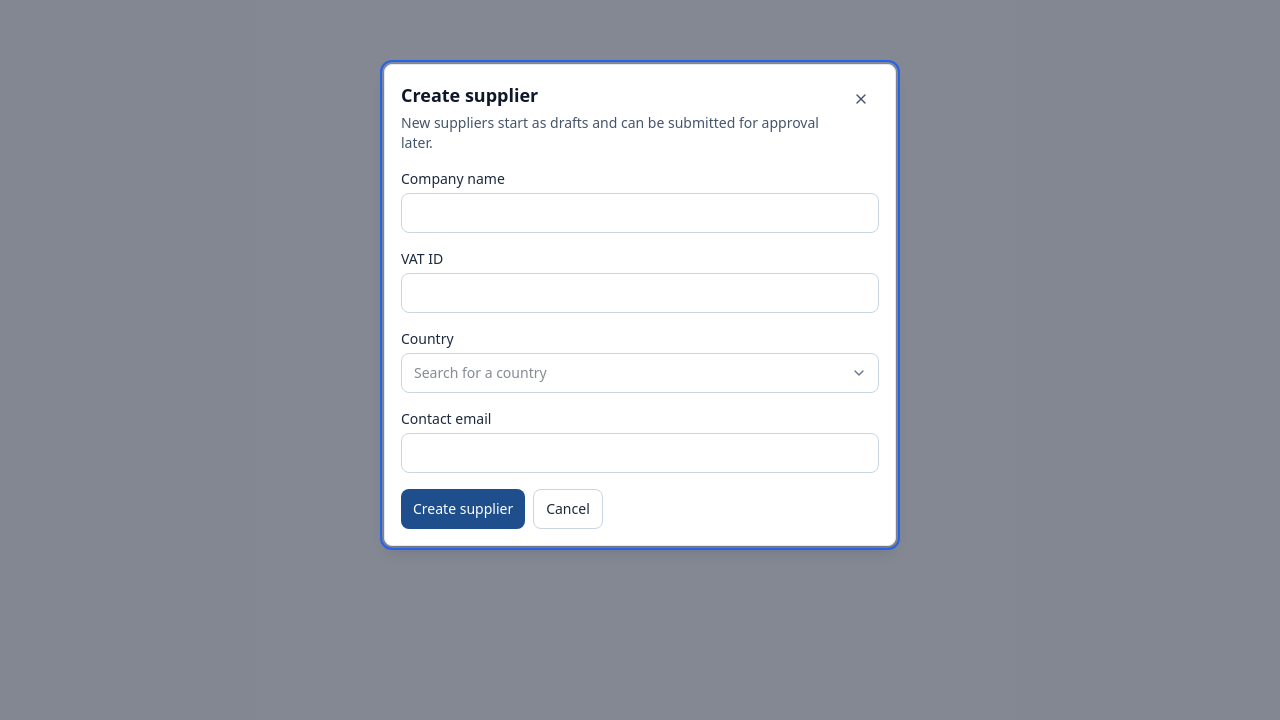
Test: CreateSupplierDialog › shows a duplicate VAT error and keeps the entered values
The image size is (1280, 720).
In the field labelled "Company name": (640, 213) [401,193,879,233], type "Duplicate GmbH"
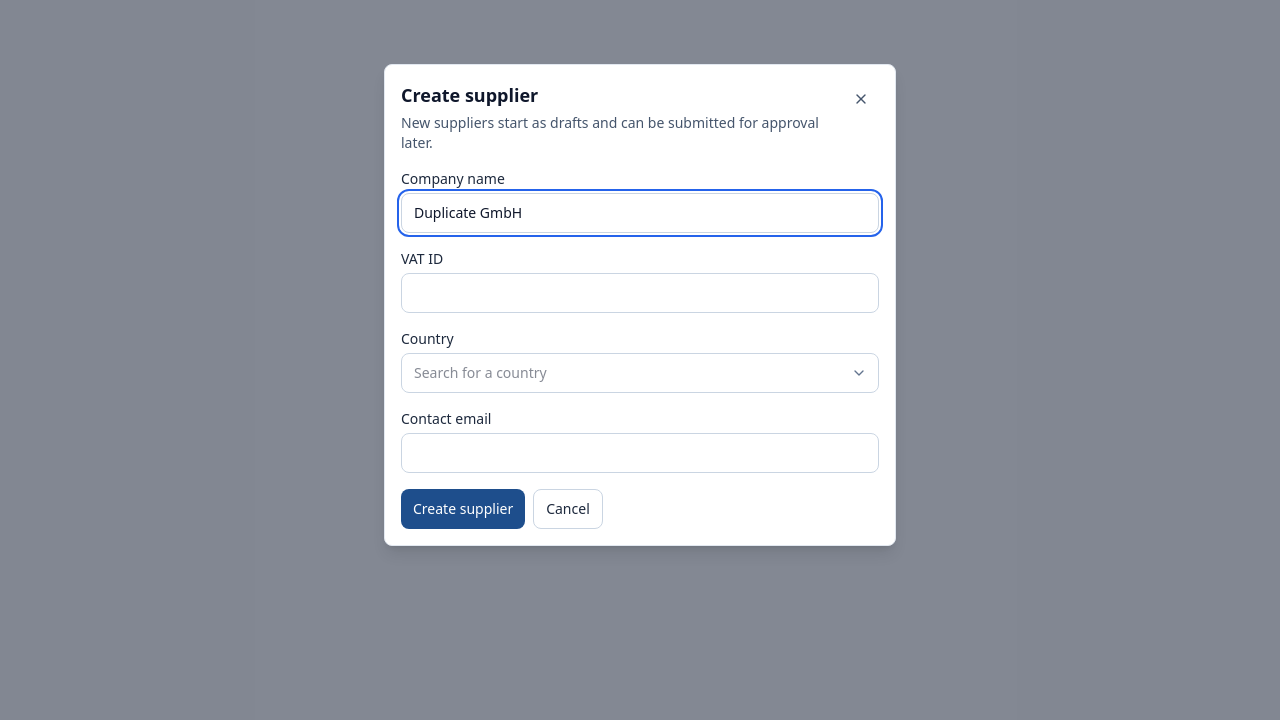
In the field labelled "VAT ID": (640, 293) [401,273,879,313], type "DE123456789"
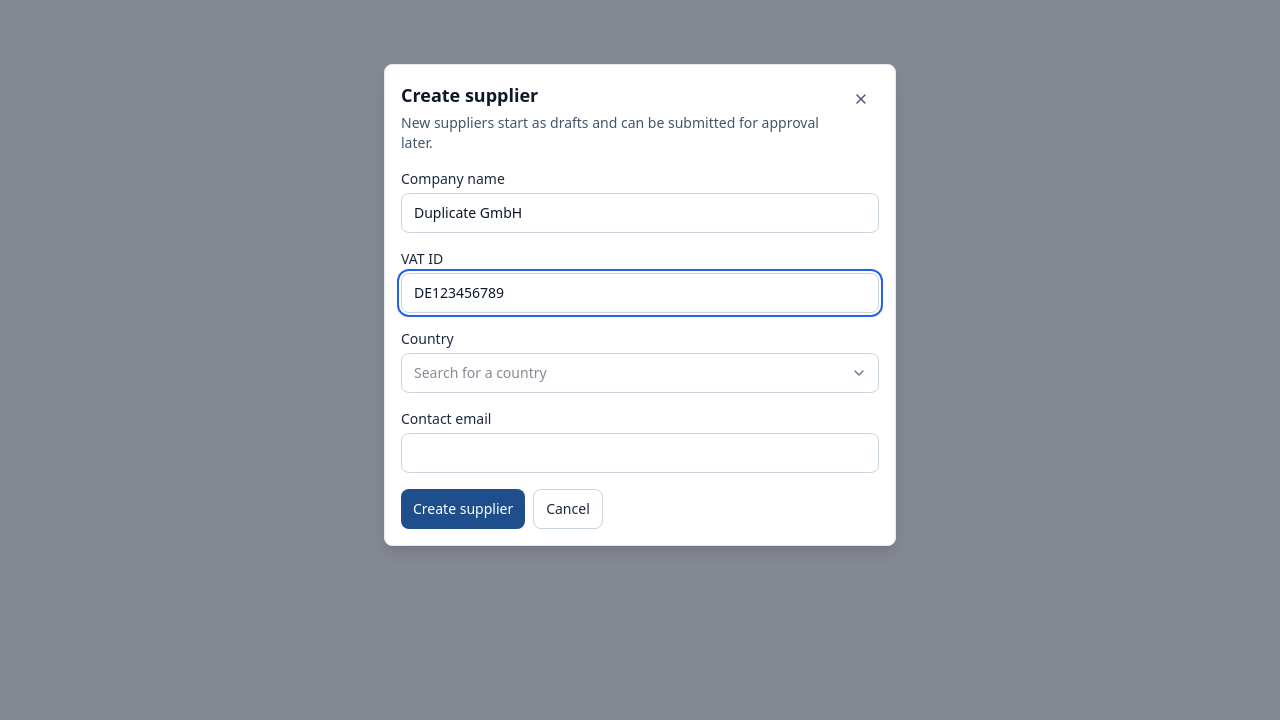
In the dropdown labelled "Country": (640, 373) [401,353,879,393], type "Germany"
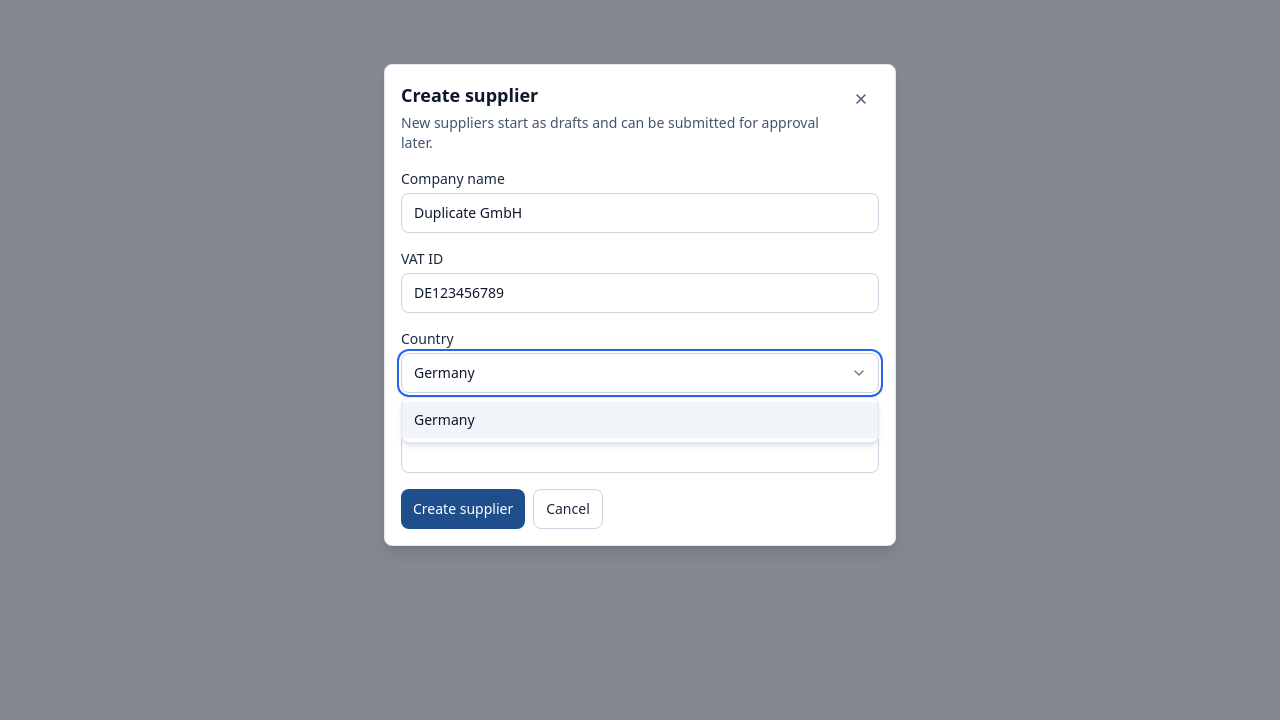
Press Enter
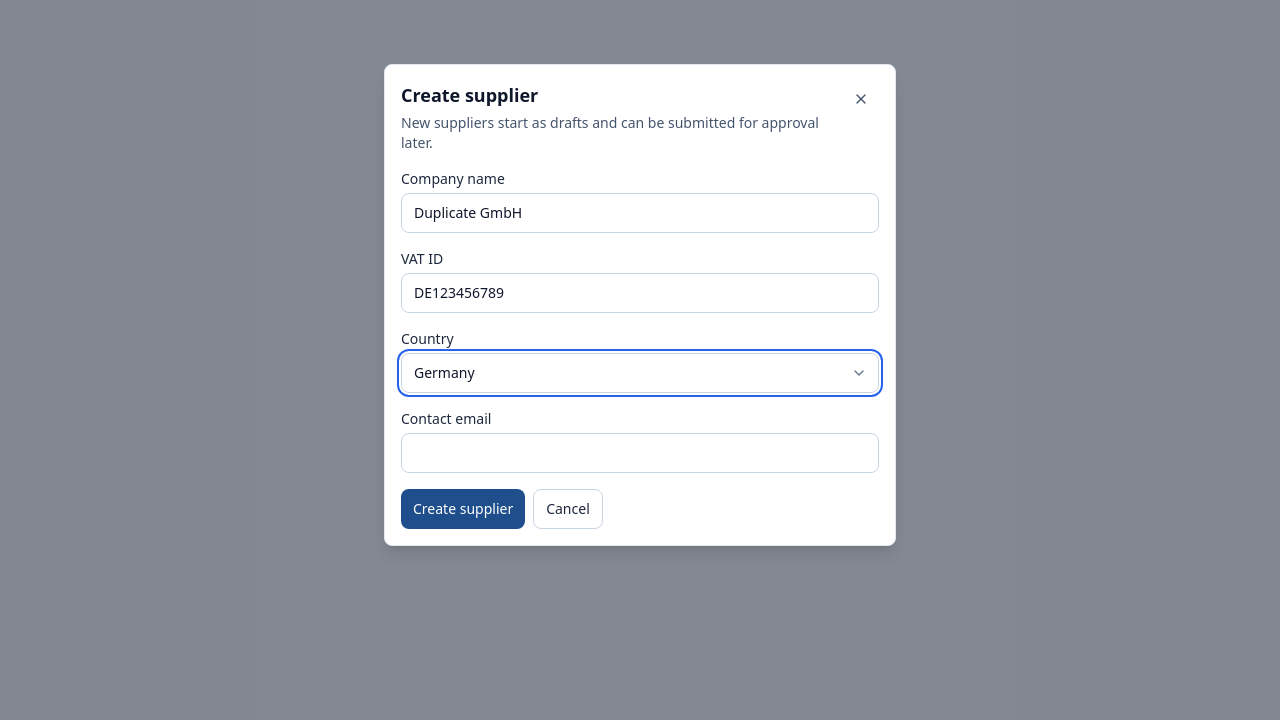
In the field labelled "Contact email": (640, 453) [401,433,879,473], type "dup@example.de"
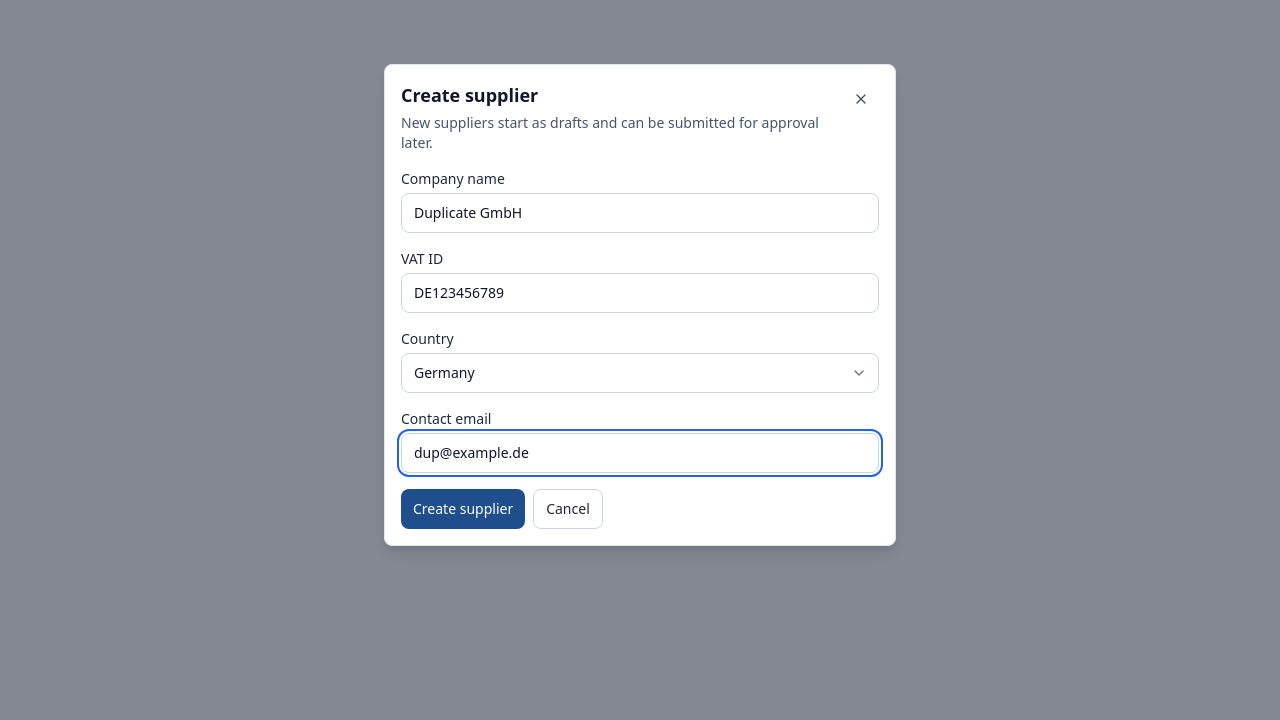
Click the button "Create supplier": (463, 509) [401,489,525,529]
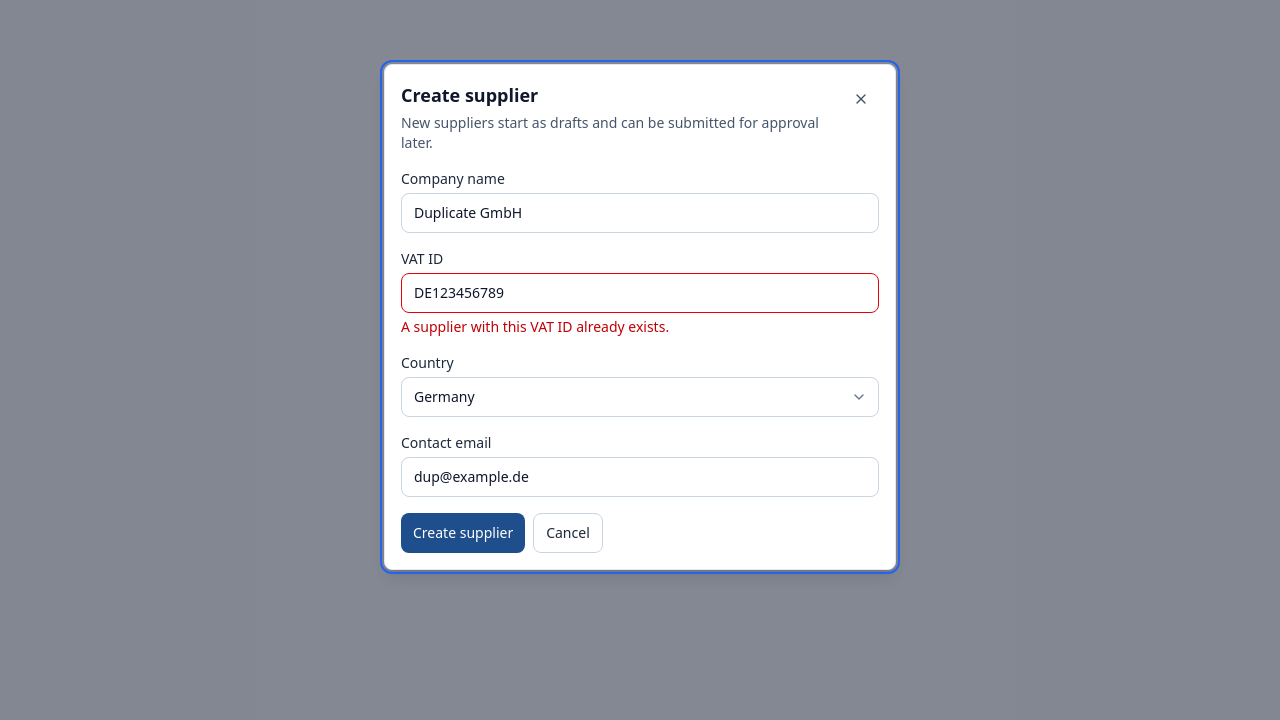
Check: the dialog "Create supplier" is shown, box [384,64,896,570]
Check: the text "A supplier with this VAT ID already exists." is shown, box [401,317,669,336]
